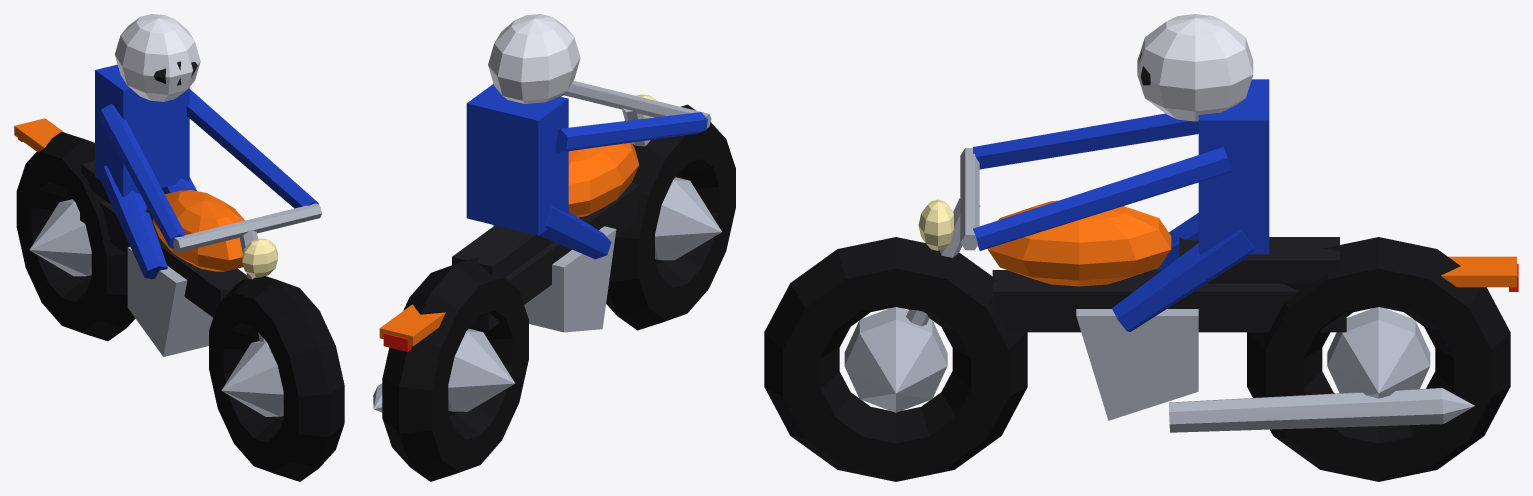
File: moto.obj
3 renders of one model, left to right at view 1: azimuth 30°, elevation 25°; view 2: azimuth 150°, elevation 25°; view 3: azimuth 270°, elevation 25°, orthographic. The views are drawn at different scales.
Parts seen in each view (by area): view 1: moto; view 2: moto; view 3: moto.
Boxes of the visible parts, x1,y1,x2,y2 form: moto: [14, 14, 344, 481]; moto: [373, 14, 735, 481]; moto: [764, 14, 1518, 481].
Size of the model in its own units: 0.6682 by 1.59 by 2.34.
